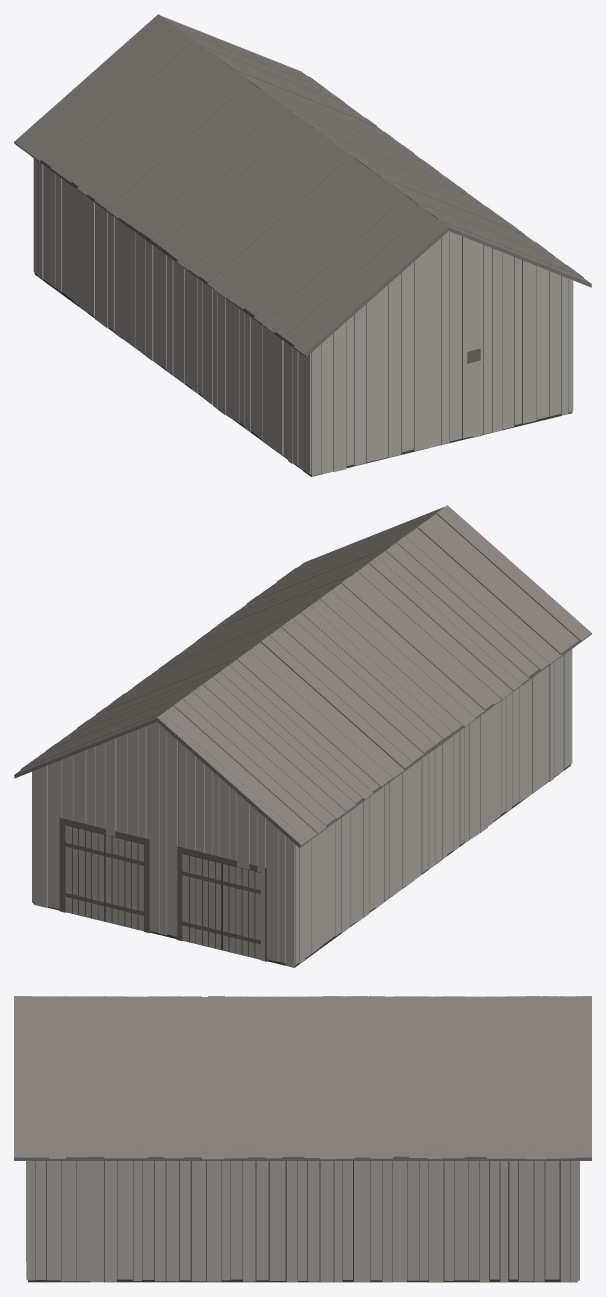
Rendered from recon_1835_west_046__inferred_1835.glb.
3 renders of one model, top to bottom at view 1: azimuth 30°, elevation 25°; view 2: azimuth 150°, elevation 25°; view 3: azimuth 270°, elevation 25°, orthographic.
Visible parts, largest first — view 1: recon_1835_west_046__inferred_1835; view 2: recon_1835_west_046__inferred_1835; view 3: recon_1835_west_046__inferred_1835.
Part boxes in pixels (box(x1,y1,x2,y2)): recon_1835_west_046__inferred_1835: box(14, 14, 591, 476); recon_1835_west_046__inferred_1835: box(14, 505, 591, 967); recon_1835_west_046__inferred_1835: box(14, 996, 591, 1282).
Size of the model in its own units: 8.11 by 5.99 by 14.09.
